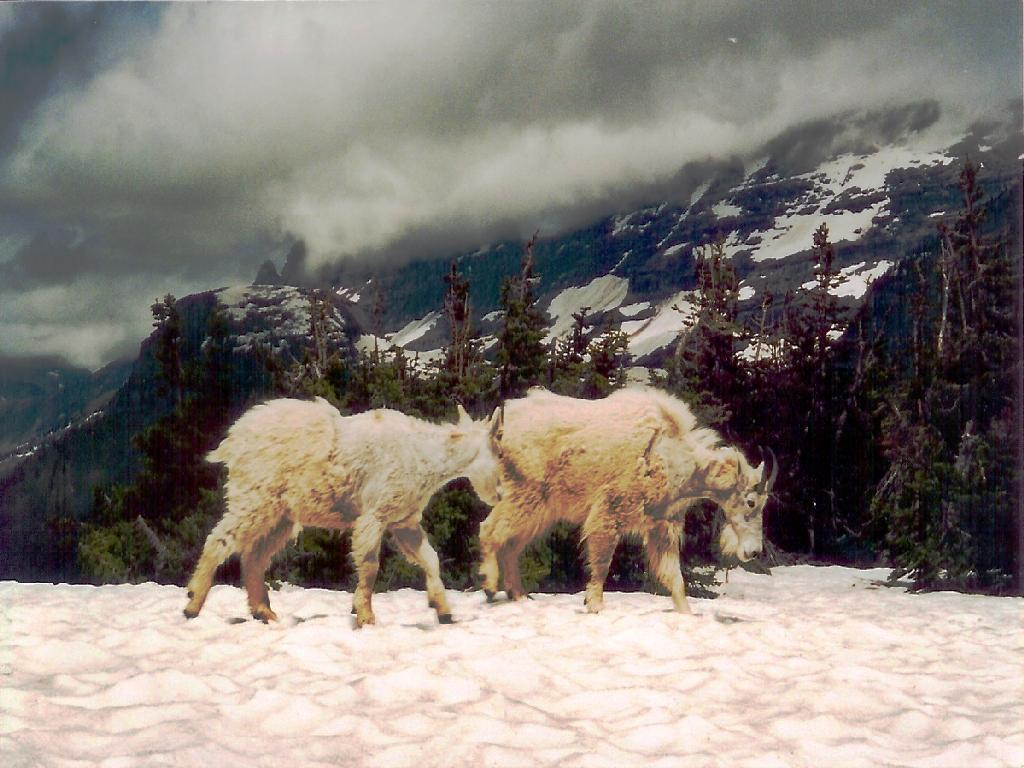Sheep: (180, 395, 506, 626), (477, 378, 781, 612)
